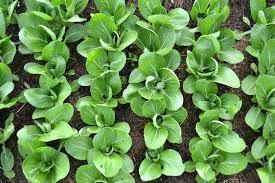Healthy-Pechay: (117, 6, 192, 177), (15, 1, 79, 181), (83, 5, 133, 183)
